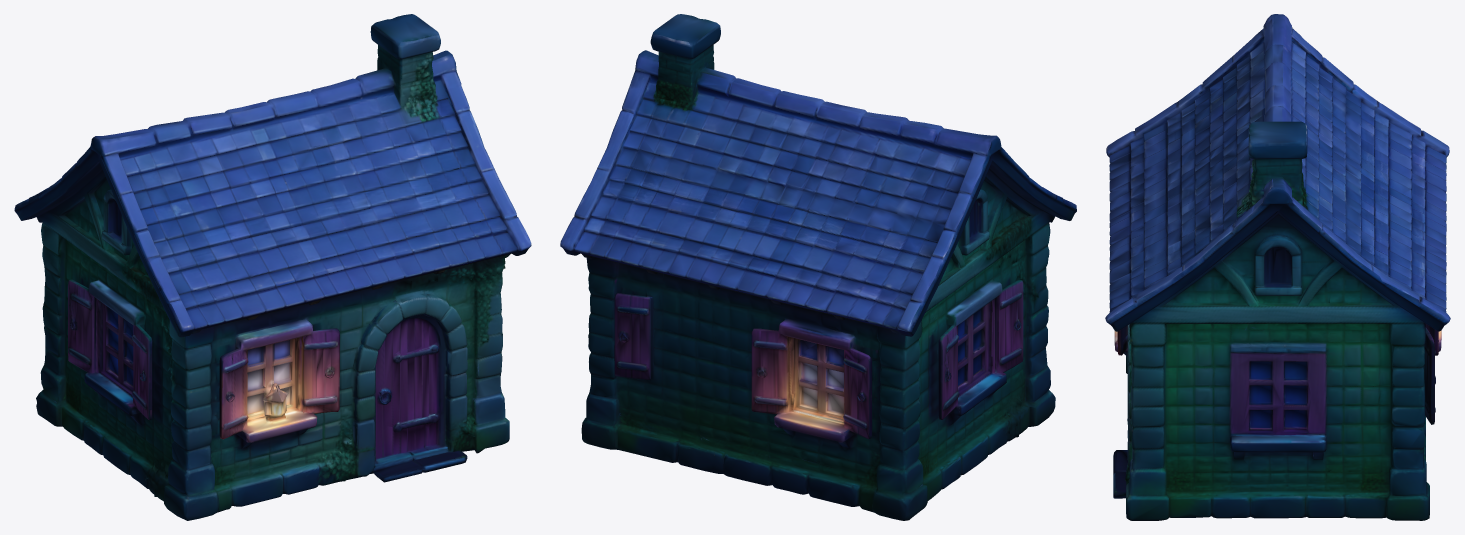
Rendered from cottage_stone.glb.
3 renders of one model, left to right at view 1: azimuth 30°, elevation 25°; view 2: azimuth 150°, elevation 25°; view 3: azimuth 270°, elevation 25°, orthographic.
Visible parts, largest first — view 1: node_0; view 2: node_0; view 3: node_0.
Part boxes in pixels (bbox=[...]): node_0: bbox=[14, 14, 531, 520]; node_0: bbox=[560, 14, 1076, 520]; node_0: bbox=[1105, 14, 1450, 520].
Size of the model in its own units: 0.789 by 0.7892 by 0.6549.
1 material, 1 textured.
